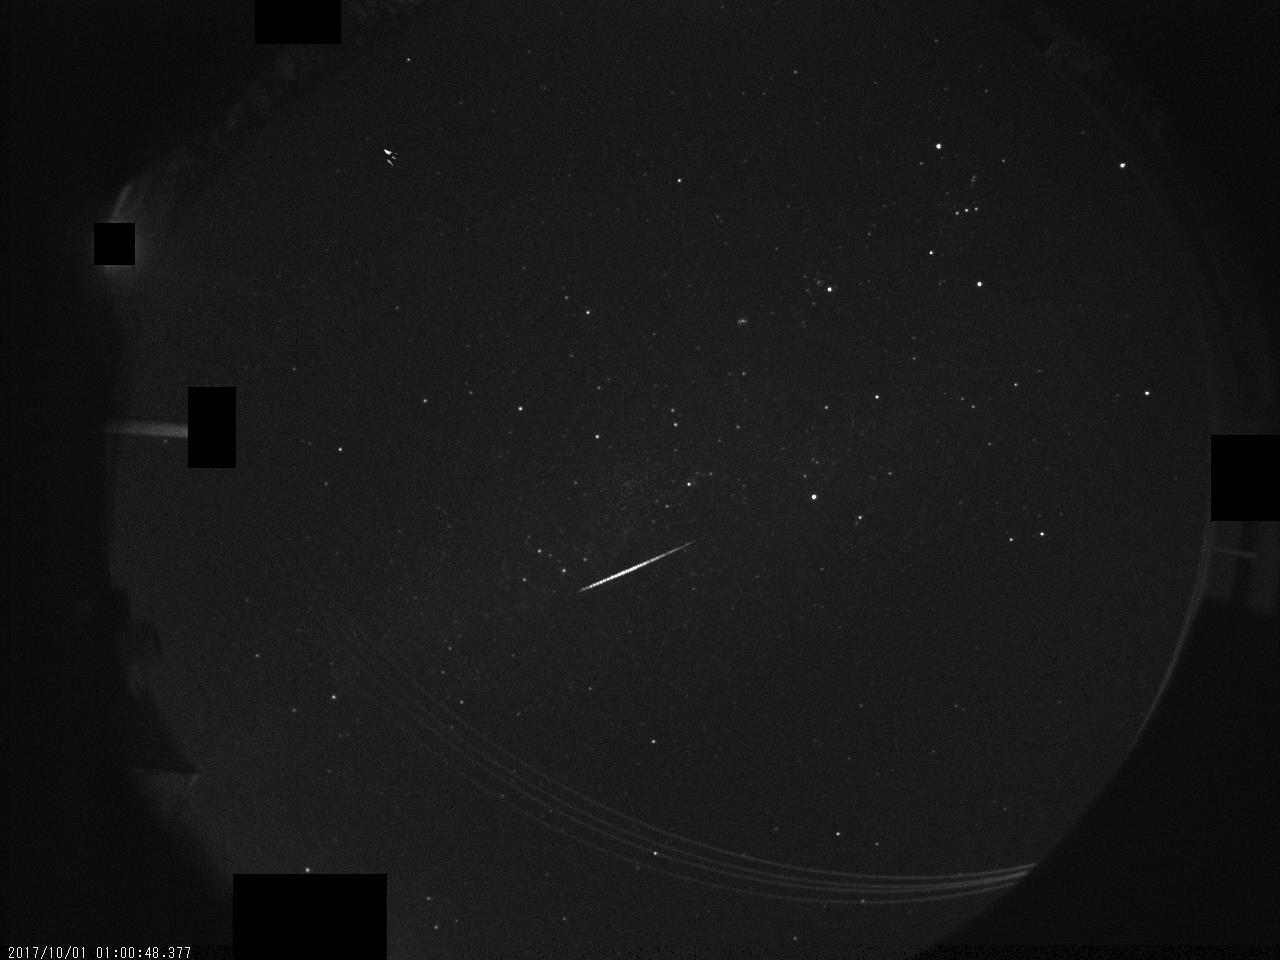TLE: (381, 141, 411, 172)
